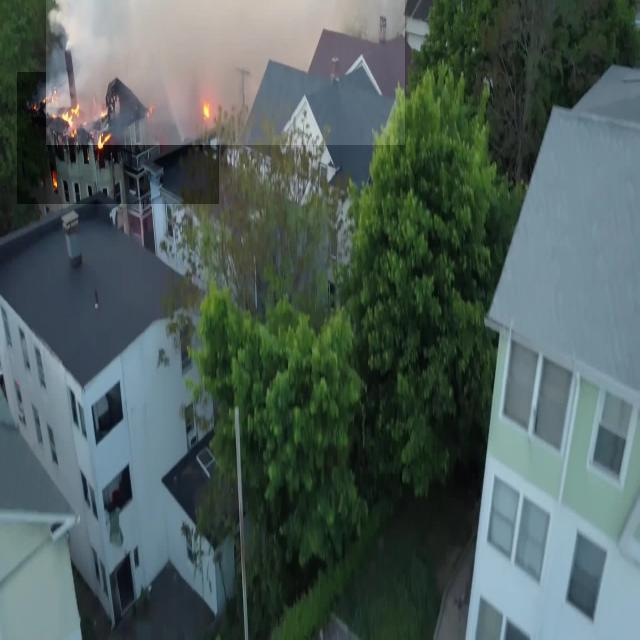Fire: (17, 72, 219, 204)
Smoke: (46, 0, 405, 145)
